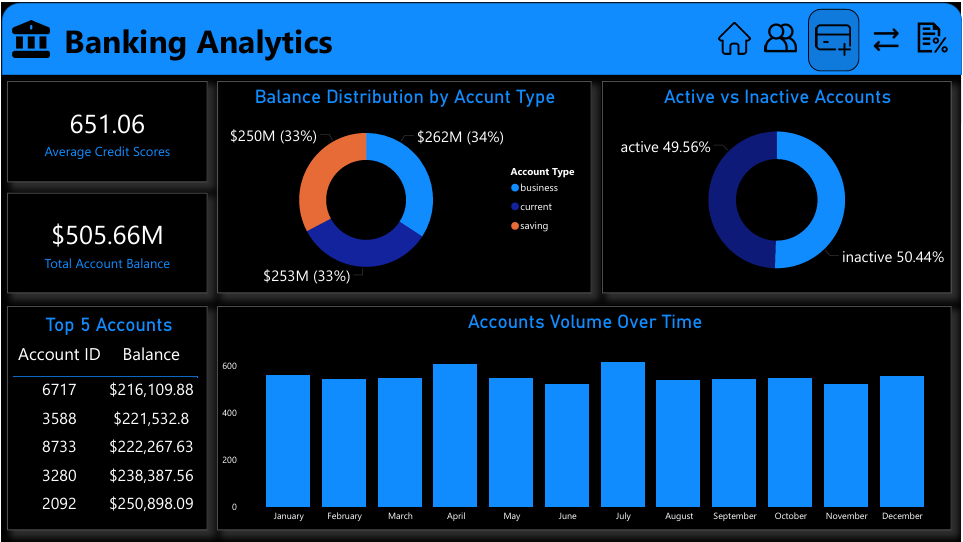

This screenshot's page, from the dashboard's own definition file:
{"tool":"powerbi","page":{"name":"Accounts","canvas":[1280,720],"ordinal":2},"visuals":[{"type":"shape","box":[0,0,1280,96],"z":0},{"type":"image","box":[14,18,50,60],"z":3000},{"type":"textbox","box":[78,16,394,88],"z":8000},{"type":"donutChart","title":"Balance Distribution by Accunt Type","fields":{"Category":["banking_system accounts.account_type"],"Y":["Sum(banking_system accounts.balance)"]},"box":[287.1,104.3,498.6,282.9],"z":10000},{"type":"donutChart","title":"Active vs Inactive Accounts","fields":{"Category":["banking_system accounts.account_status"],"Y":["CountNonNull(banking_system accounts.account_id)"]},"box":[800,104.3,465.7,282.9],"z":11000},{"type":"card","fields":{"Values":["Avg(banking_system accounts.credit_score)"]},"box":[7.1,104.3,267.1,134.3],"z":12000},{"type":"card","fields":{"Values":["Sum(banking_system accounts.balance)"]},"box":[7.1,252.9,267.1,134.3],"z":13000},{"type":"tableEx","title":"Top 5 Accounts","fields":{"Values":["banking_system accounts.account_id","banking_system accounts.balance"]},"box":[7.1,404.3,267.1,298.6],"z":14000},{"type":"clusteredColumnChart","title":"Accounts Volume Over Time","fields":{"Category":["banking_system accounts.account_date.Variation.Date Hierarchy.Month"],"Y":["CountNonNull(banking_system accounts.account_id)"]},"box":[287.1,404.3,978.6,298.6],"z":15000},{"type":"image","box":[949.3,25.8,54.5,43.6],"z":15001},{"type":"image","box":[1009.3,24.8,59,43.3],"z":15002},{"type":"image","box":[1211.1,21.2,60,50],"z":15003},{"type":"image","box":[1138.4,29.4,81.8,40],"z":15004},{"type":"image","box":[1067.5,25.8,81.8,47.3],"z":15005},{"type":"shape","box":[1075,7.5,67.5,83.8],"z":15006}]}

Visuals, with their boxes in screenshot pixels (x1, y1, x2, y2), scaled from the page's 1280x720 canvas onto the 963x542 screenshot:
shape: bbox(0, 0, 962, 72)
image: bbox(11, 14, 48, 59)
textbox: bbox(59, 12, 355, 78)
"Balance Distribution by Accunt Type" donutChart: bbox(216, 79, 591, 291)
"Active vs Inactive Accounts" donutChart: bbox(602, 79, 952, 291)
card - Avg(banking_system accounts.credit_score): bbox(5, 79, 206, 180)
card - Sum(banking_system accounts.balance): bbox(5, 190, 206, 291)
"Top 5 Accounts" tableEx: bbox(5, 304, 206, 529)
"Accounts Volume Over Time" clusteredColumnChart: bbox(216, 304, 952, 529)
image: bbox(714, 19, 755, 52)
image: bbox(759, 19, 804, 51)
image: bbox(911, 16, 956, 54)
image: bbox(856, 22, 918, 52)
image: bbox(803, 19, 865, 55)
shape: bbox(809, 6, 860, 69)
